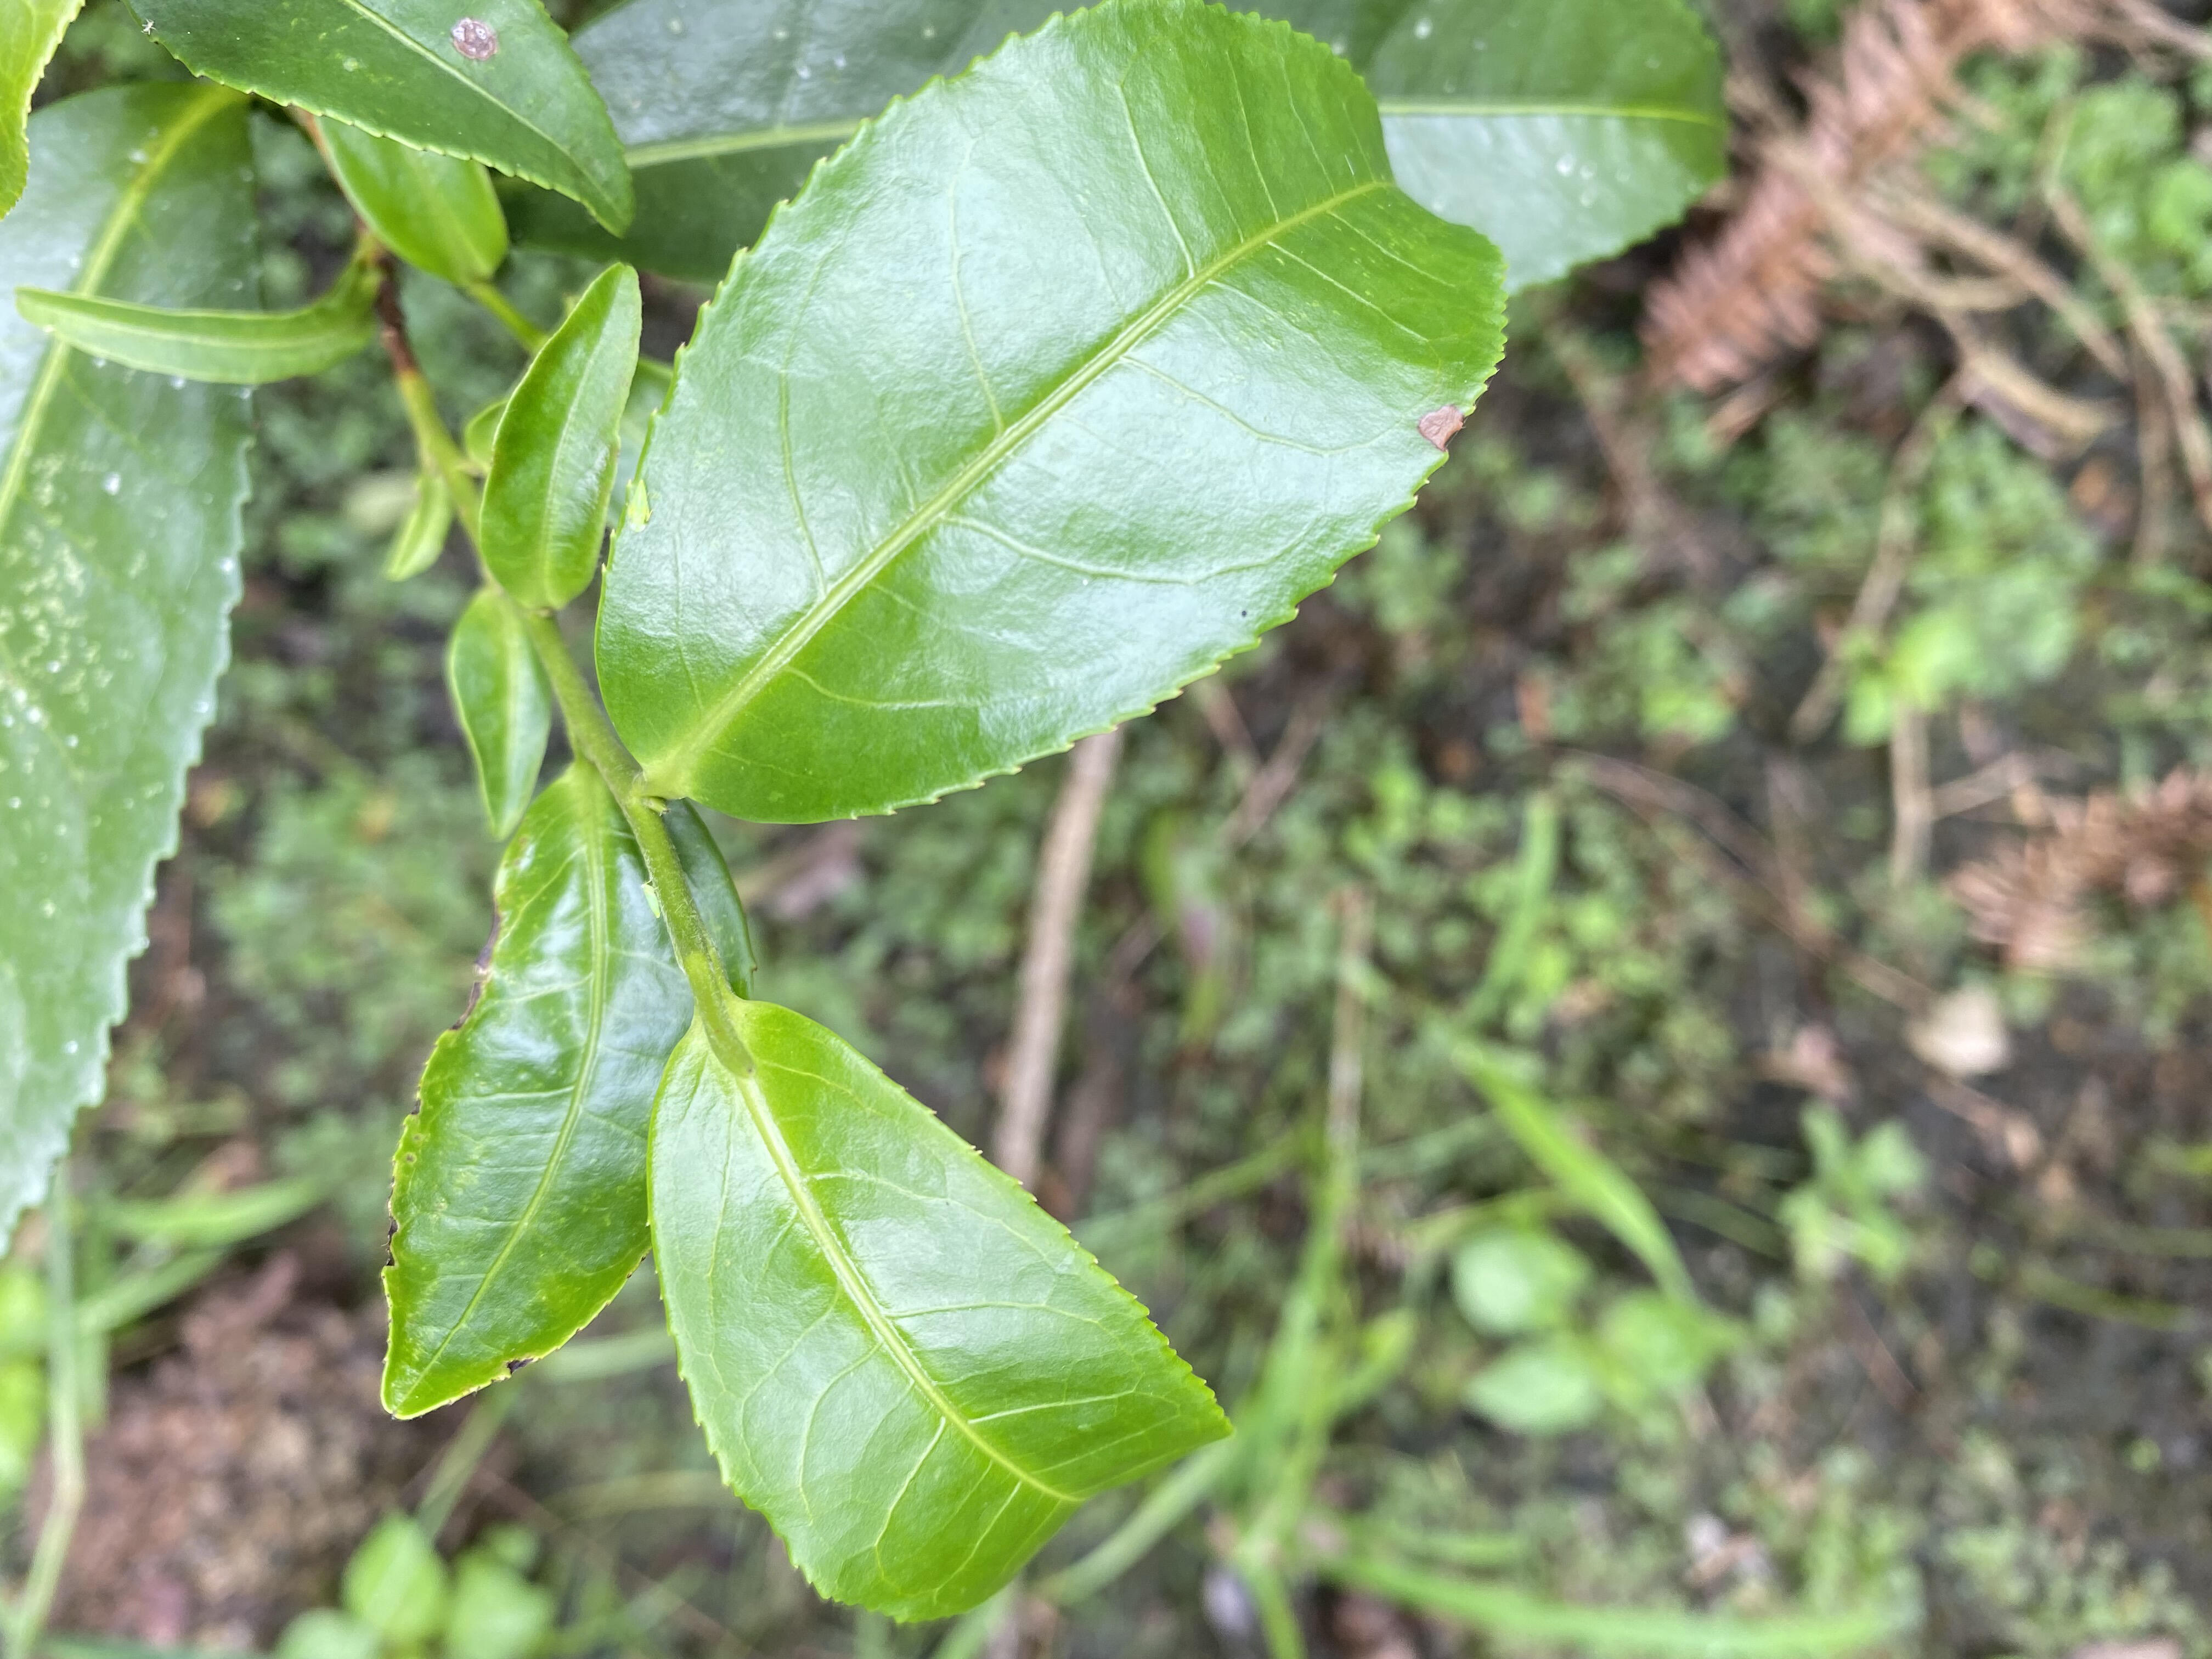healthy: (641, 997, 1231, 1619), (479, 254, 644, 619)
tanju_low: (603, 2, 1514, 828), (376, 763, 756, 1422), (125, 2, 636, 235)
